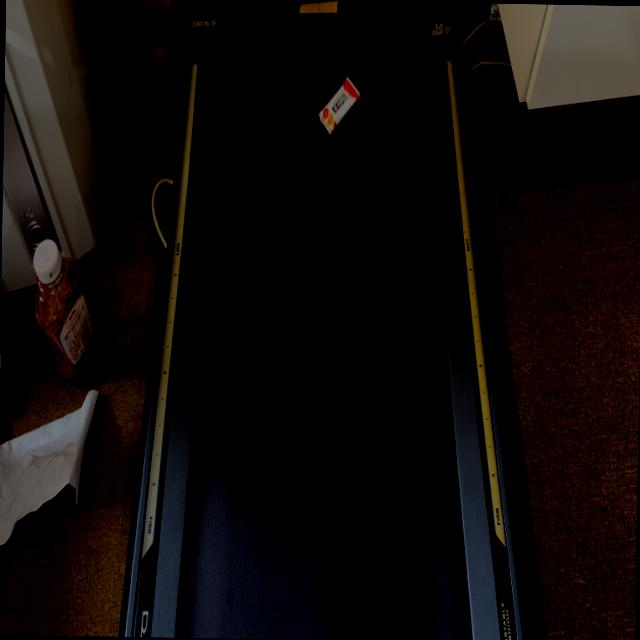Trash: (316, 70, 362, 134)
